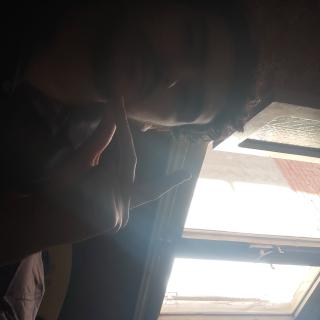TAA: (65, 165, 193, 320)
